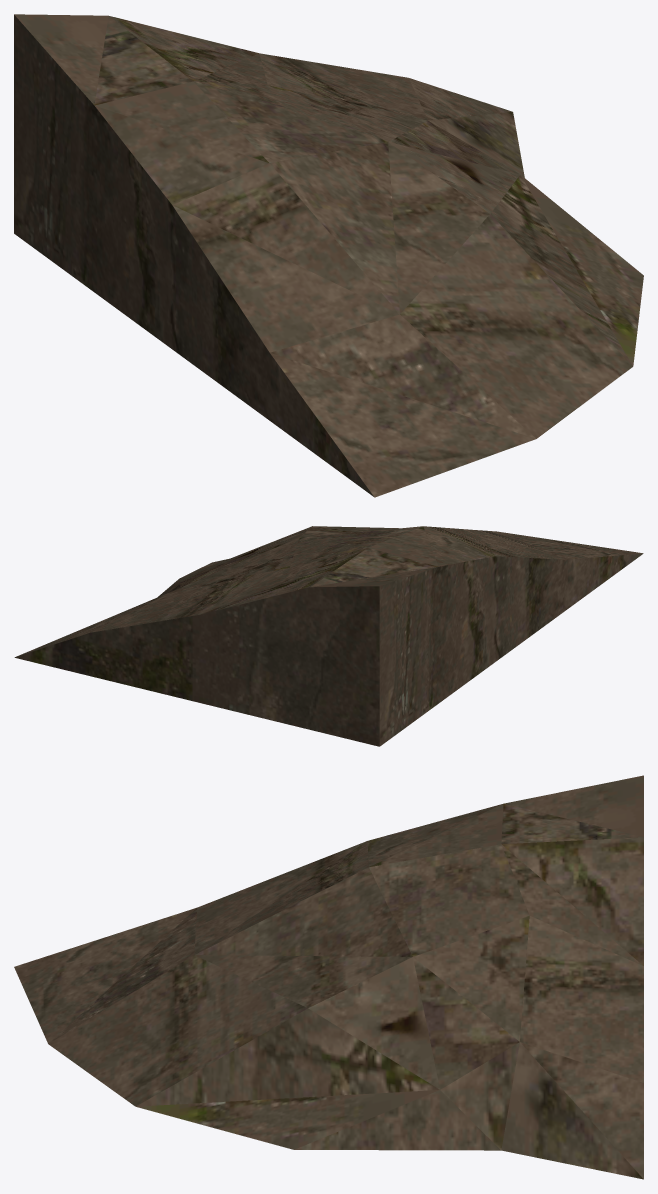
The model's file is Rubbles_06.fbx.
The picture shows the model from 3 angles, top to bottom: view 1: azimuth 30°, elevation 25°; view 2: azimuth 150°, elevation 25°; view 3: azimuth 270°, elevation 25°; orthographic projection. The views are drawn at different scales.
Parts seen in each view (by area): view 1: Rubble_Corner_IN_Col:Rubble_Corner_IN_Col_0; view 2: Rubble_Corner_IN_Col:Rubble_Corner_IN_Col_0; view 3: Rubble_Corner_IN_Col:Rubble_Corner_IN_Col_0.
Boxes of the visible parts, x1,y1,x2,y2 form: Rubble_Corner_IN_Col:Rubble_Corner_IN_Col_0: (14,14,643,497); Rubble_Corner_IN_Col:Rubble_Corner_IN_Col_0: (14,526,643,746); Rubble_Corner_IN_Col:Rubble_Corner_IN_Col_0: (14,775,643,1179).
Size of the model in its own units: 29.78 by 12.5 by 37.28.
Materials: 1 (1 with a texture image).
